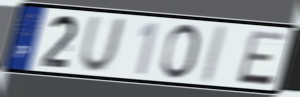1: (135, 21, 160, 77)
2: (39, 14, 77, 70)
E: (234, 29, 288, 88)
I: (198, 22, 230, 85)
O: (157, 22, 202, 81)
U: (78, 15, 128, 74)
